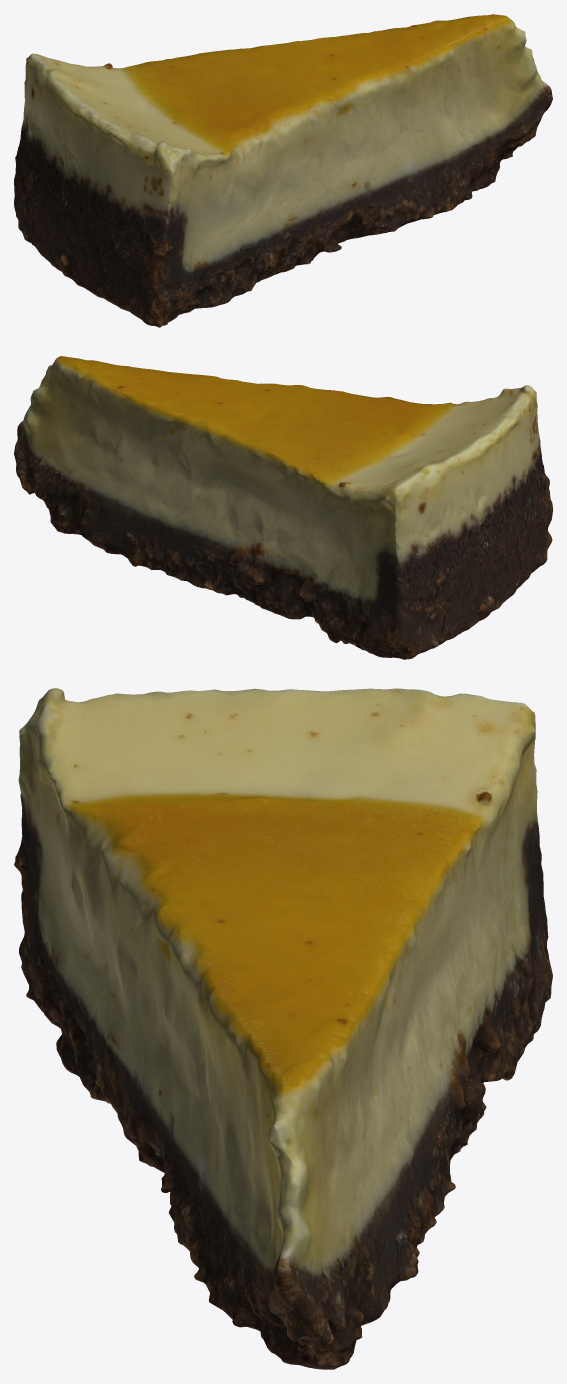
3 renders of one model, top to bottom at view 1: azimuth 30°, elevation 25°; view 2: azimuth 150°, elevation 25°; view 3: azimuth 270°, elevation 25°, orthographic. The views are drawn at different scales.
Parts seen in each view (by area): view 1: Model; view 2: Model; view 3: Model.
Boxes of the visible parts, box(x1,y1,x2,y2) form: Model: box(14, 14, 552, 327); Model: box(14, 356, 552, 659); Model: box(14, 688, 552, 1369).
Bounding box in the file's own units: 0.1 × 0.0364 × 0.0536.
Materials: 2 (2 with a texture image).
